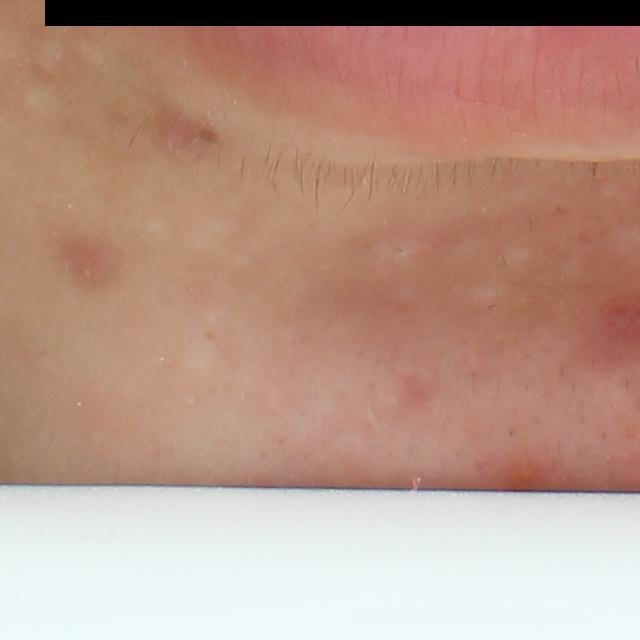hypertrophic_scar: (358, 224, 430, 265), (21, 80, 68, 130), (69, 35, 123, 76), (452, 277, 515, 304), (487, 241, 539, 273)
